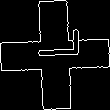L_W: (29, 38, 81, 72)
